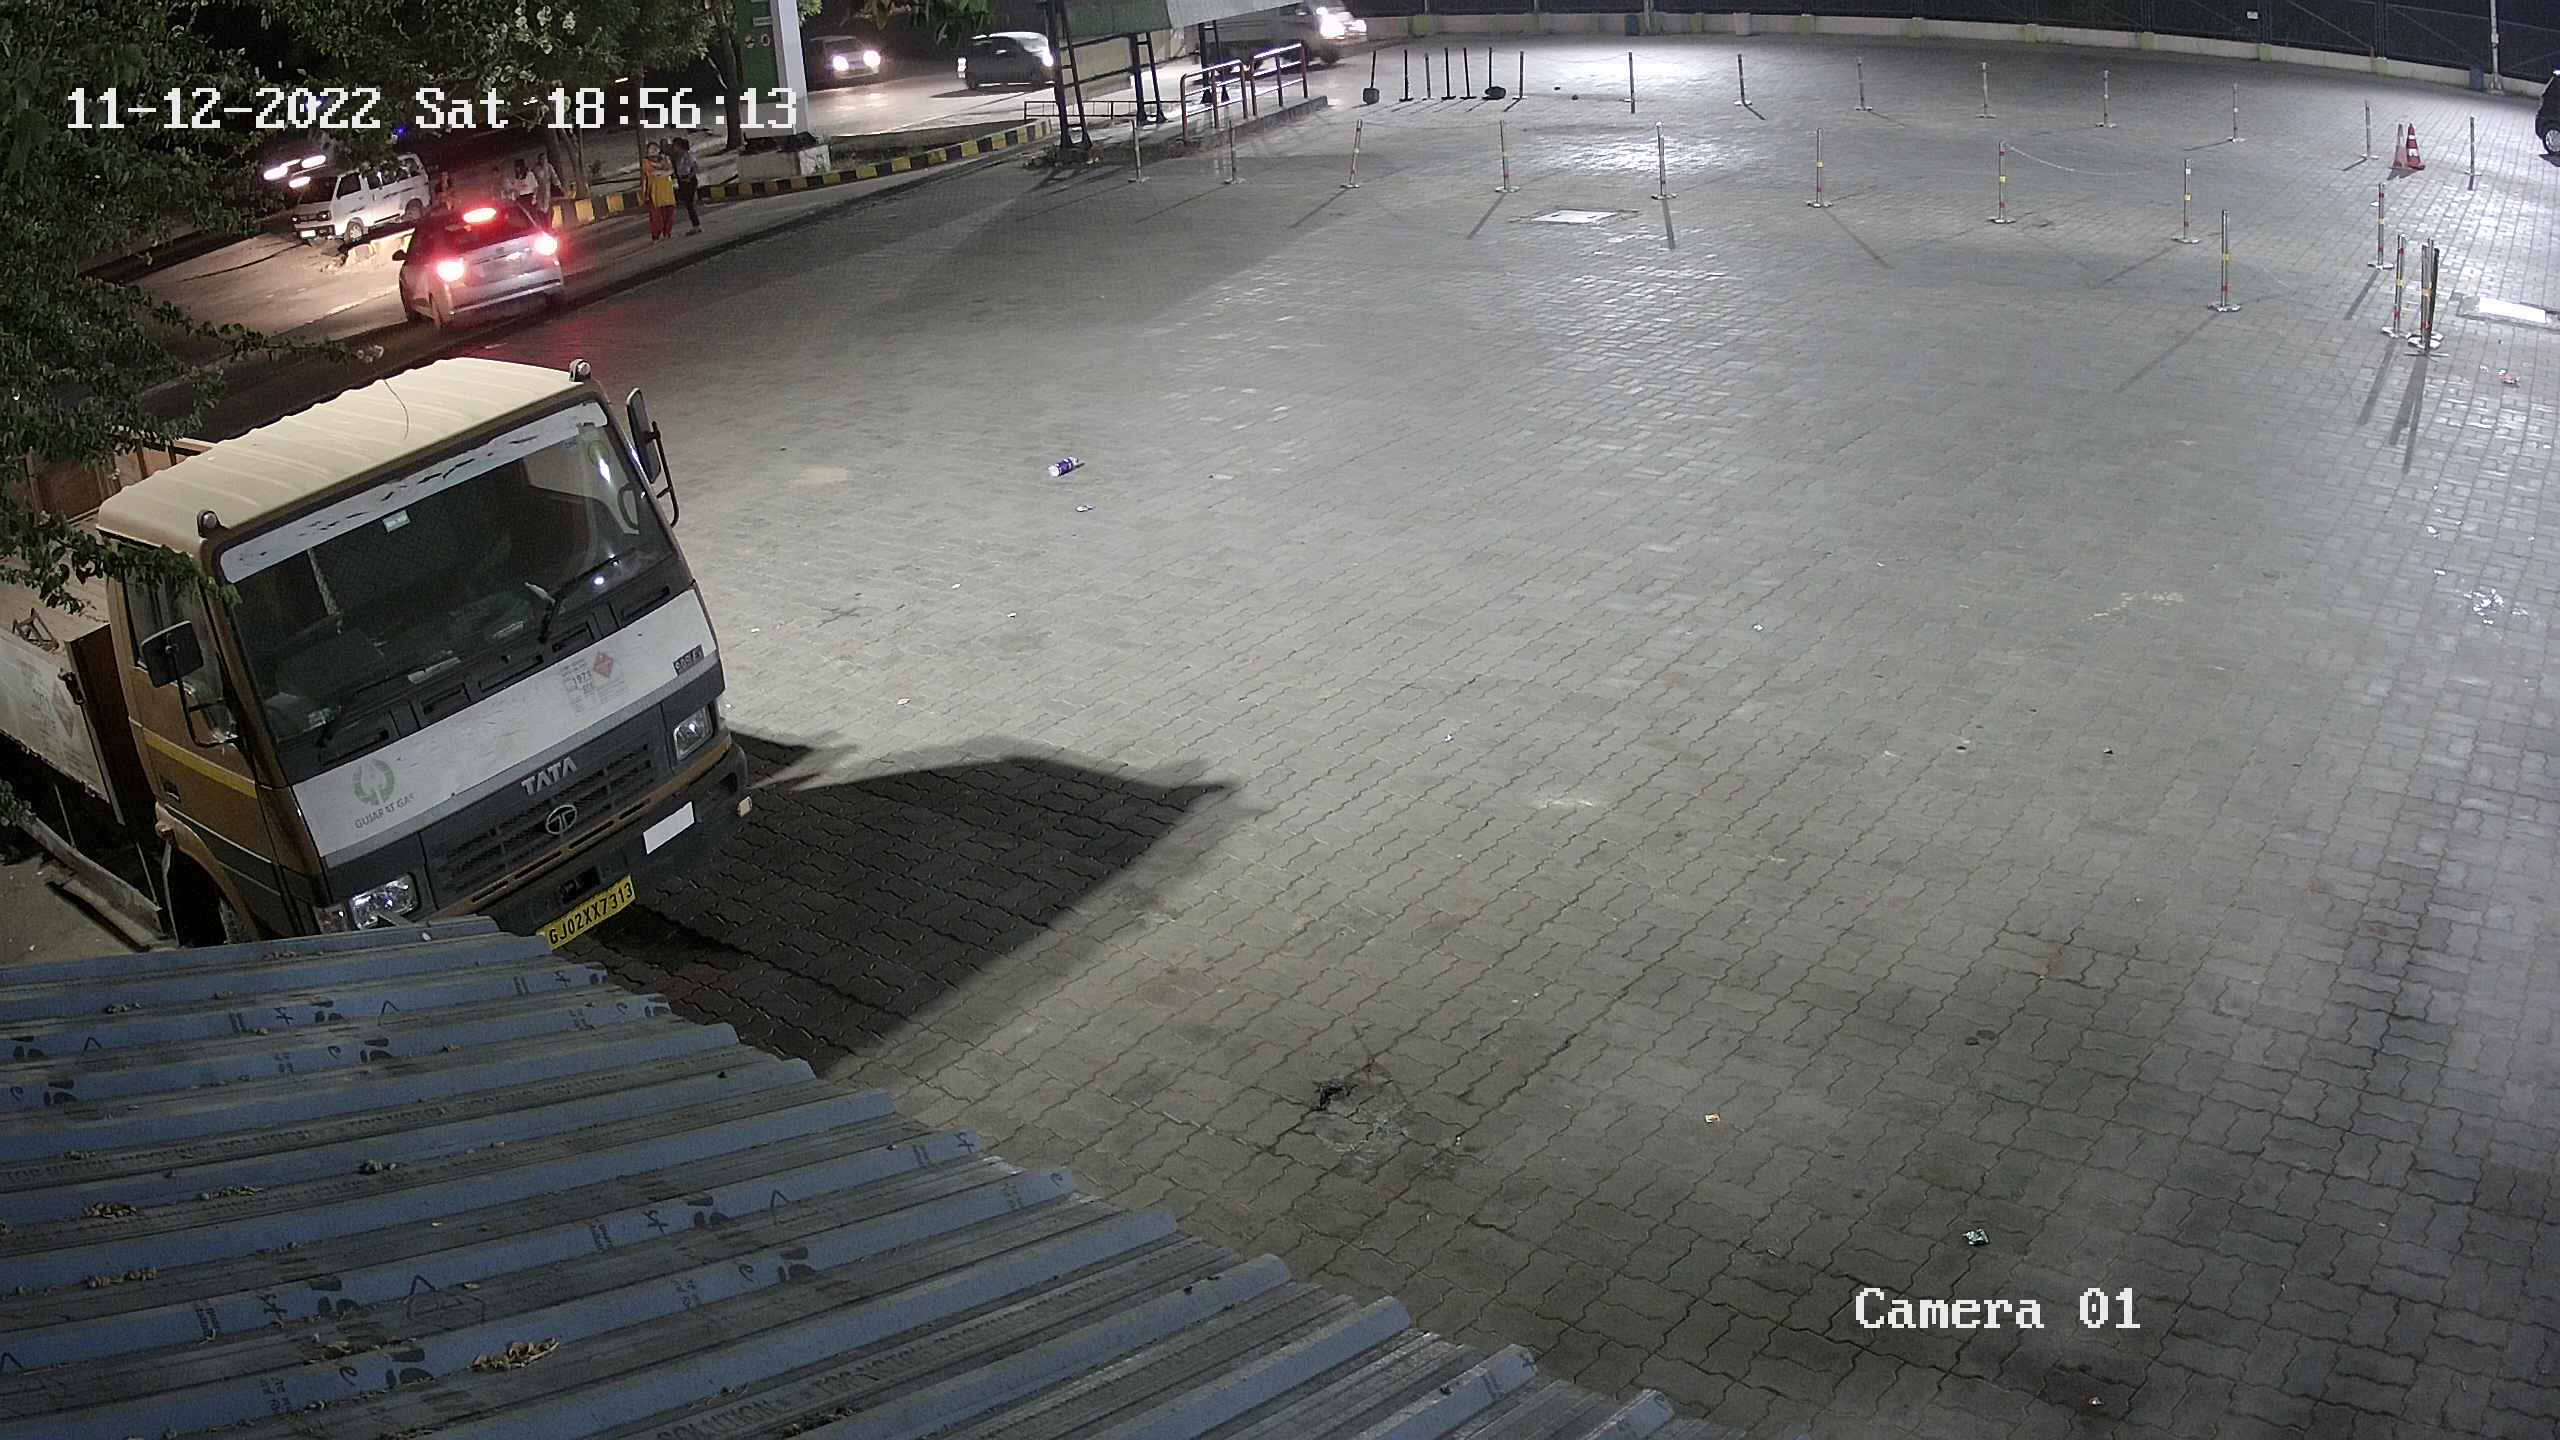Car: (383, 176, 584, 338), (287, 127, 441, 251), (1167, 0, 1377, 77), (958, 19, 1071, 97), (795, 18, 898, 98), (2528, 56, 2558, 171)
HMV: (2, 346, 774, 972)
